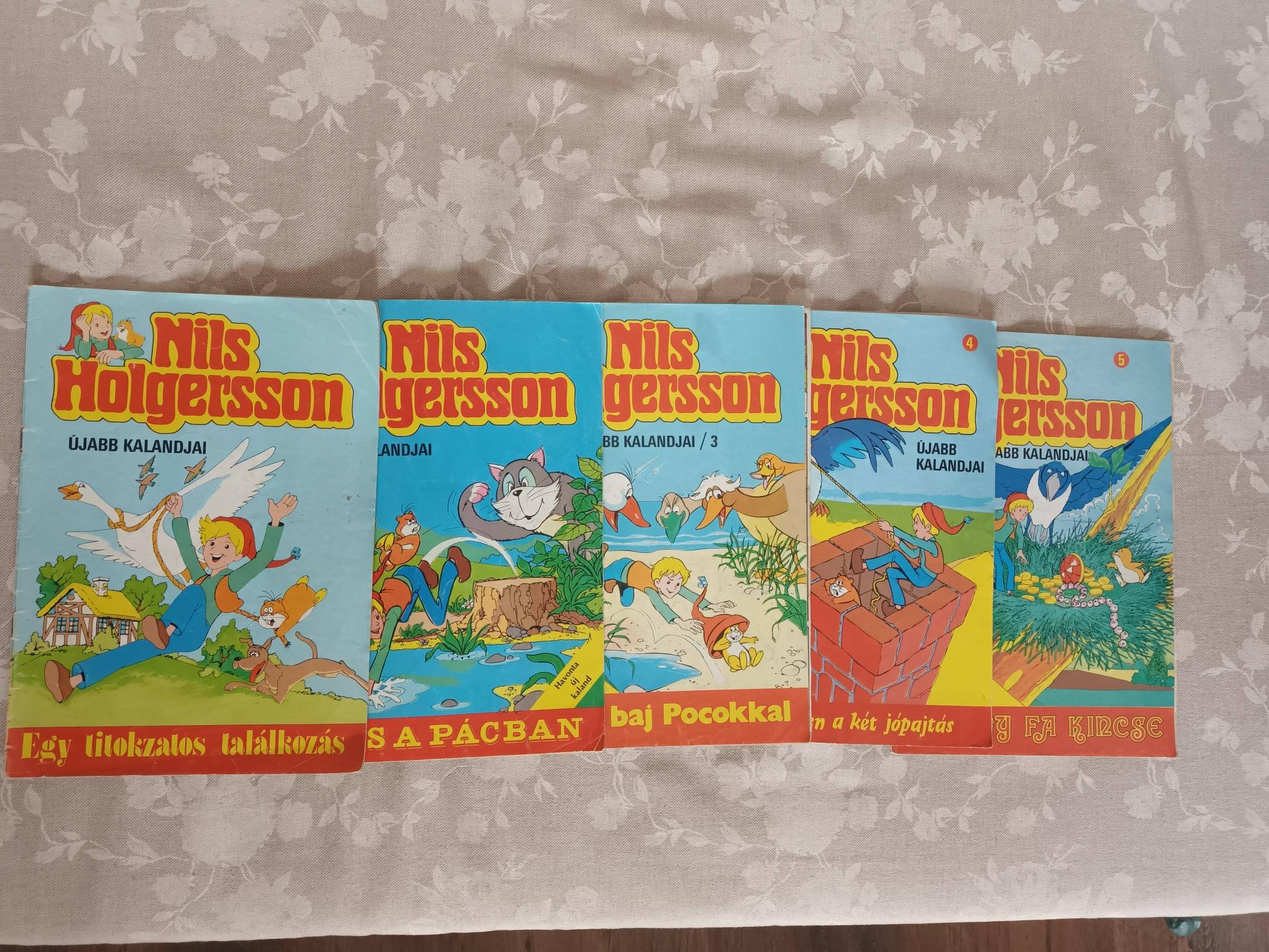comic: (6, 286, 386, 791), (367, 300, 609, 763), (599, 302, 811, 747), (807, 311, 996, 747), (991, 332, 1180, 756)
